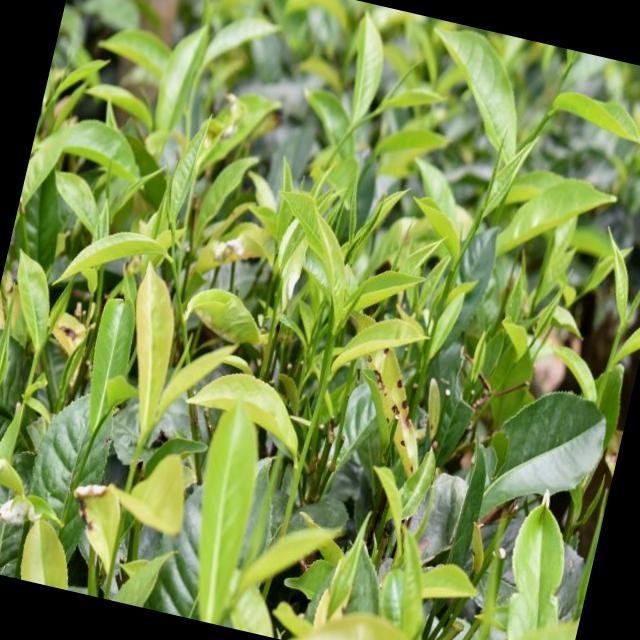Stem: (326, 335, 337, 344), (137, 438, 146, 447), (346, 127, 354, 136)
